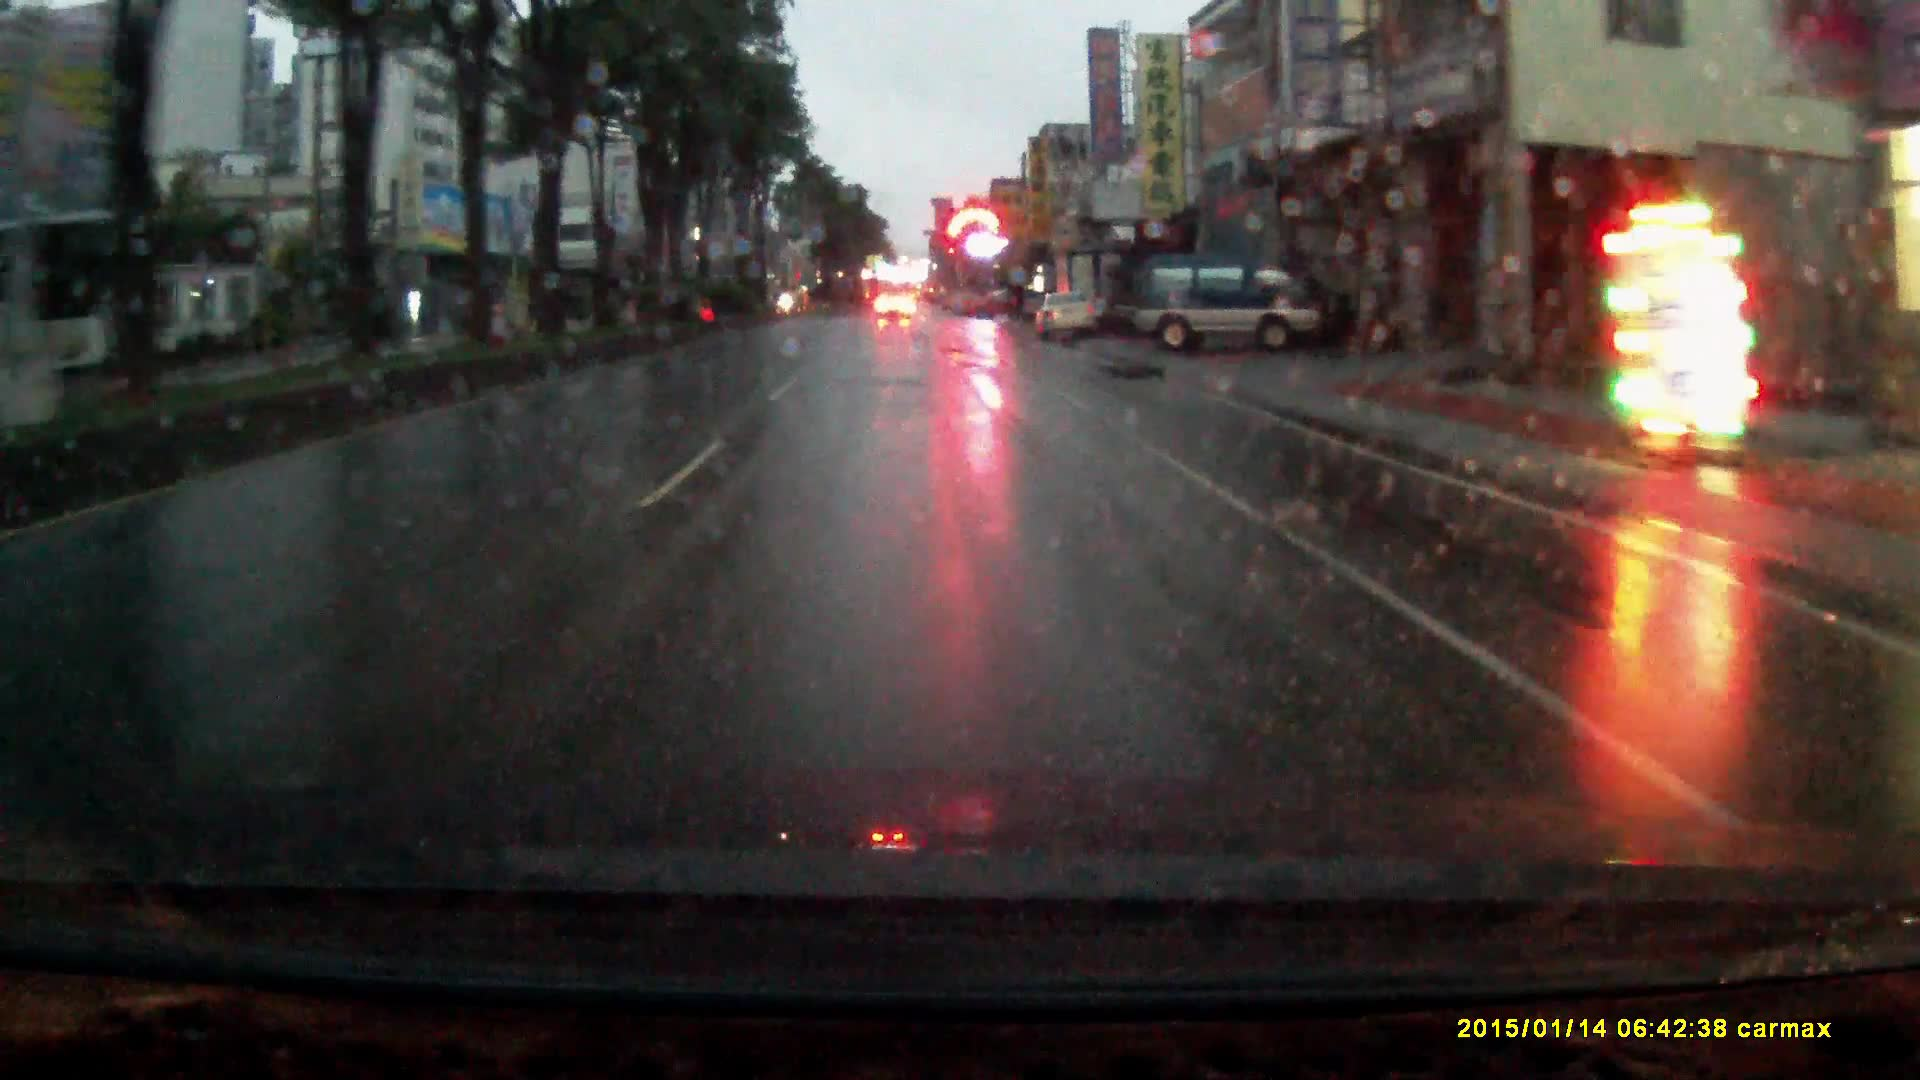vehicle: (1130, 255, 1342, 361), (1052, 249, 1127, 339), (1034, 289, 1098, 345), (876, 295, 914, 324)
